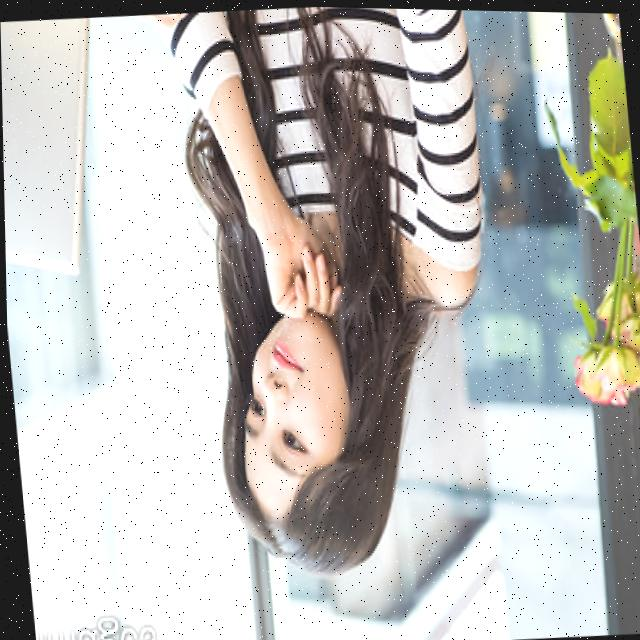notebook-person: (0, 0, 525, 611)
